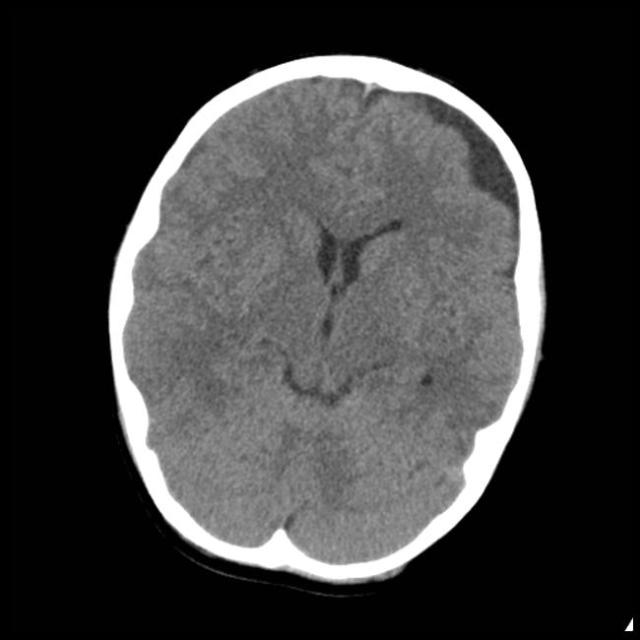lesion: (112, 64, 541, 579)
